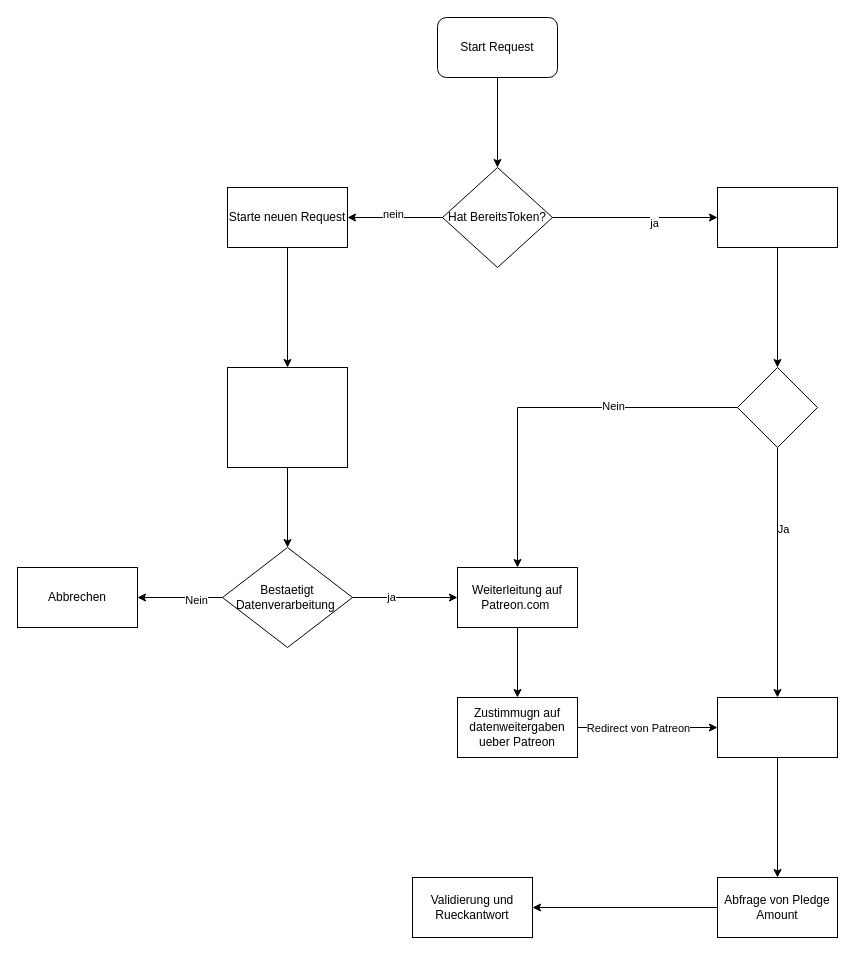
This 855x955 diagram has some shape labels left out. Here are the shapes that lost their labels. From the top down, the centre of each, then its label:
point 777,217: Starte Renew Request
point 287,417: Zeige Landing Page
point 777,407: Token noch Gueltig
point 777,727: Daten Abfrage mit Auth-Token von Patreon
